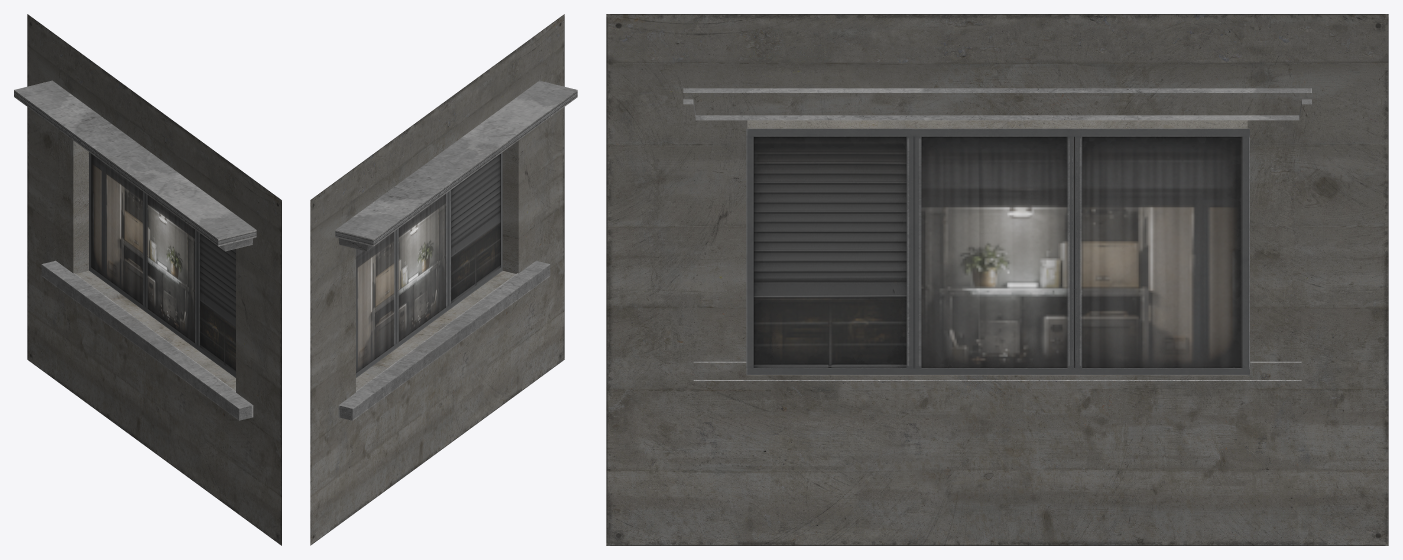
File: CP_Windows_C_4x3m_03.fbx
The picture shows the model from 3 angles, left to right: view 1: azimuth 30°, elevation 25°; view 2: azimuth 150°, elevation 25°; view 3: azimuth 270°, elevation 25°; orthographic projection. The views are drawn at different scales.
Parts seen in each view (by area): view 1: CP_Windows_C_4x3m_03; view 2: CP_Windows_C_4x3m_03; view 3: CP_Windows_C_4x3m_03.
Boxes of the visible parts, x1=… form: CP_Windows_C_4x3m_03: x1=14, y1=14, x2=281, y2=545; CP_Windows_C_4x3m_03: x1=310, y1=14, x2=577, y2=545; CP_Windows_C_4x3m_03: x1=606, y1=14, x2=1388, y2=545.
Bounding box in the file's own units: 49.4 × 300 × 400.
